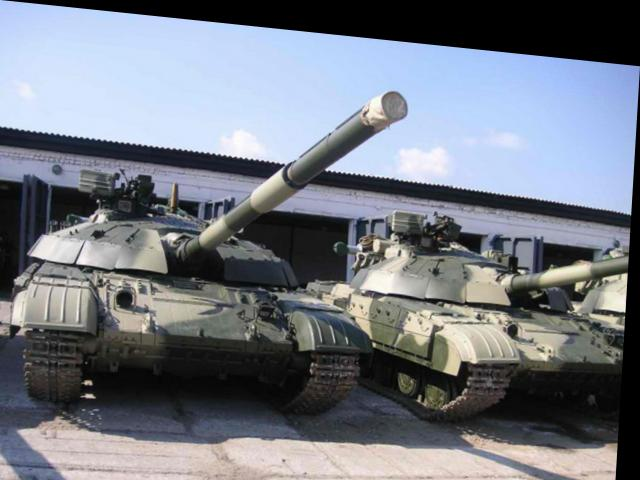tank: (25, 178, 362, 418), (322, 195, 631, 413)
